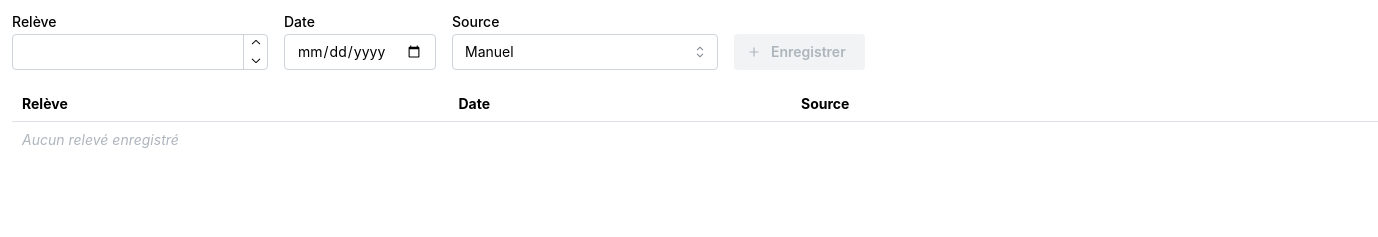
Test: VehicleDetailPage — a failed save says so and keeps its key (KAN-269, KAN-271) › a failed odometer reading shows a translated message in fr, keeps the input, and the retry reuses the key
This screenshot has width=1378, height=237.
Step 1. Type "42000" into the field labelled "Relève" → (140, 52), box [12,34,268,70]
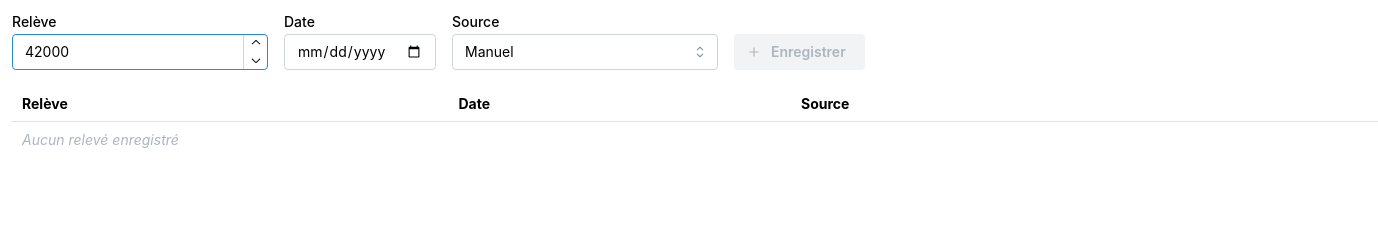
Step 2. Type "2026-01-01" into the date field labelled "Date" → (360, 52), box [284,34,436,70]
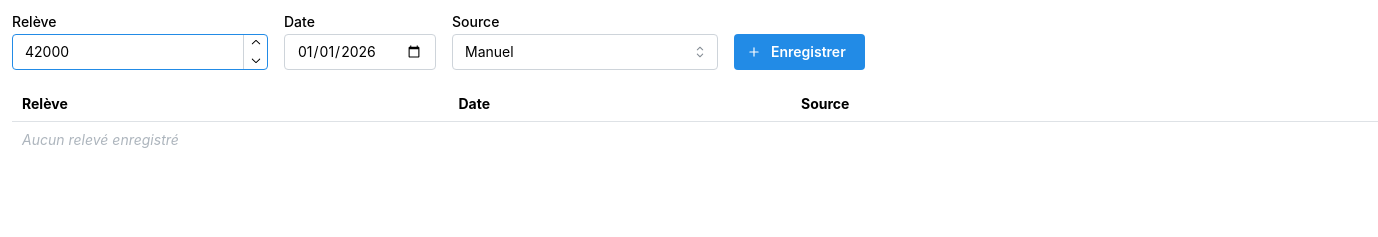
Step 3. Click the button "Enregistrer" → (799, 52), box [734,34,865,70]
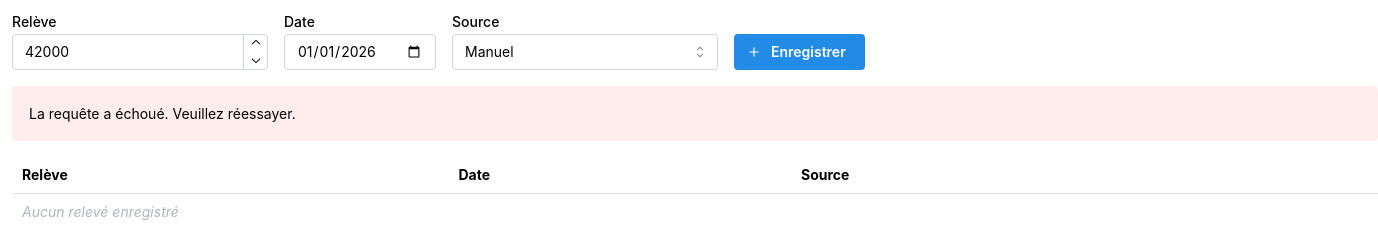
Expected: the message reads "La requête a échoué. Veuillez réessayer.", [29,105,296,122]
Step 4. Click the button "Enregistrer" → (799, 52), box [734,34,865,70]
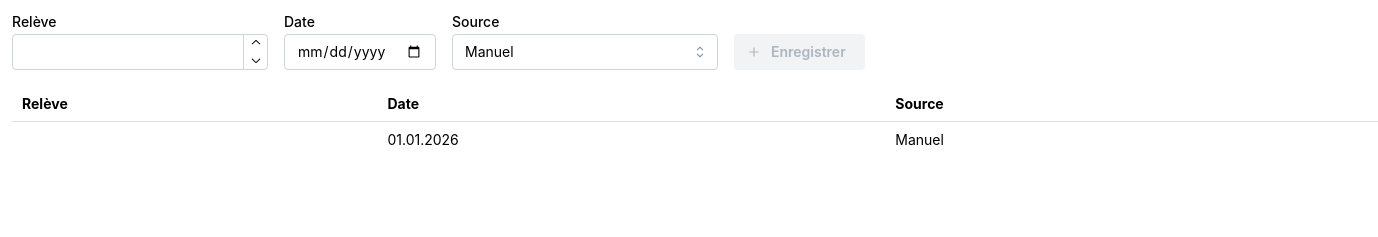
Expected: the message "La requête a échoué. Veuillez réessayer." is gone
